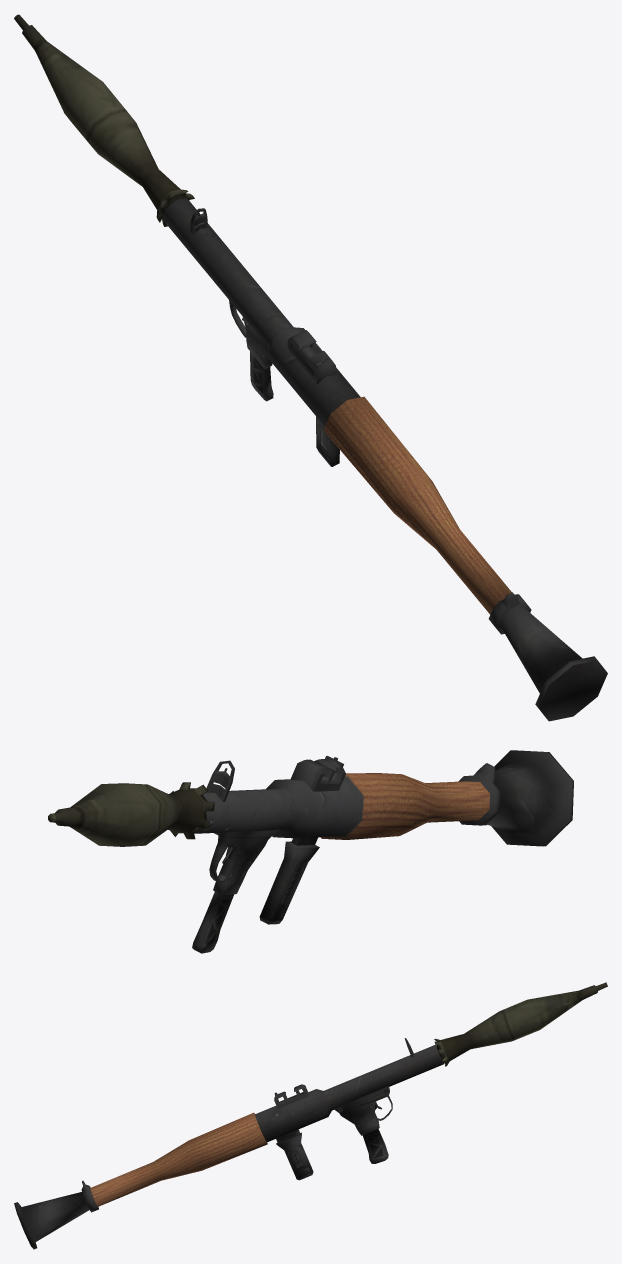
File: rpg_world.glb
3 renders of one model, top to bottom at view 1: azimuth 30°, elevation 25°; view 2: azimuth 150°, elevation 25°; view 3: azimuth 270°, elevation 25°, orthographic. The views are drawn at different scales.
Parts seen in each view (by area): view 1: RPG7, LoadedRocket; view 2: RPG7, LoadedRocket; view 3: RPG7, LoadedRocket.
Boxes of the visible parts, x1,y1,x2,y2 form: RPG7: [162, 198, 607, 721]; LoadedRocket: [14, 14, 194, 226]; RPG7: [192, 750, 573, 953]; LoadedRocket: [48, 782, 214, 846]; RPG7: [14, 1038, 443, 1249]; LoadedRocket: [434, 982, 607, 1066].
Bounding box in the file's own units: 0.1579 × 0.4421 × 0.996.
Materials: 1 (1 with a texture image).
